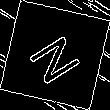N_NE: (23, 25, 87, 85)
